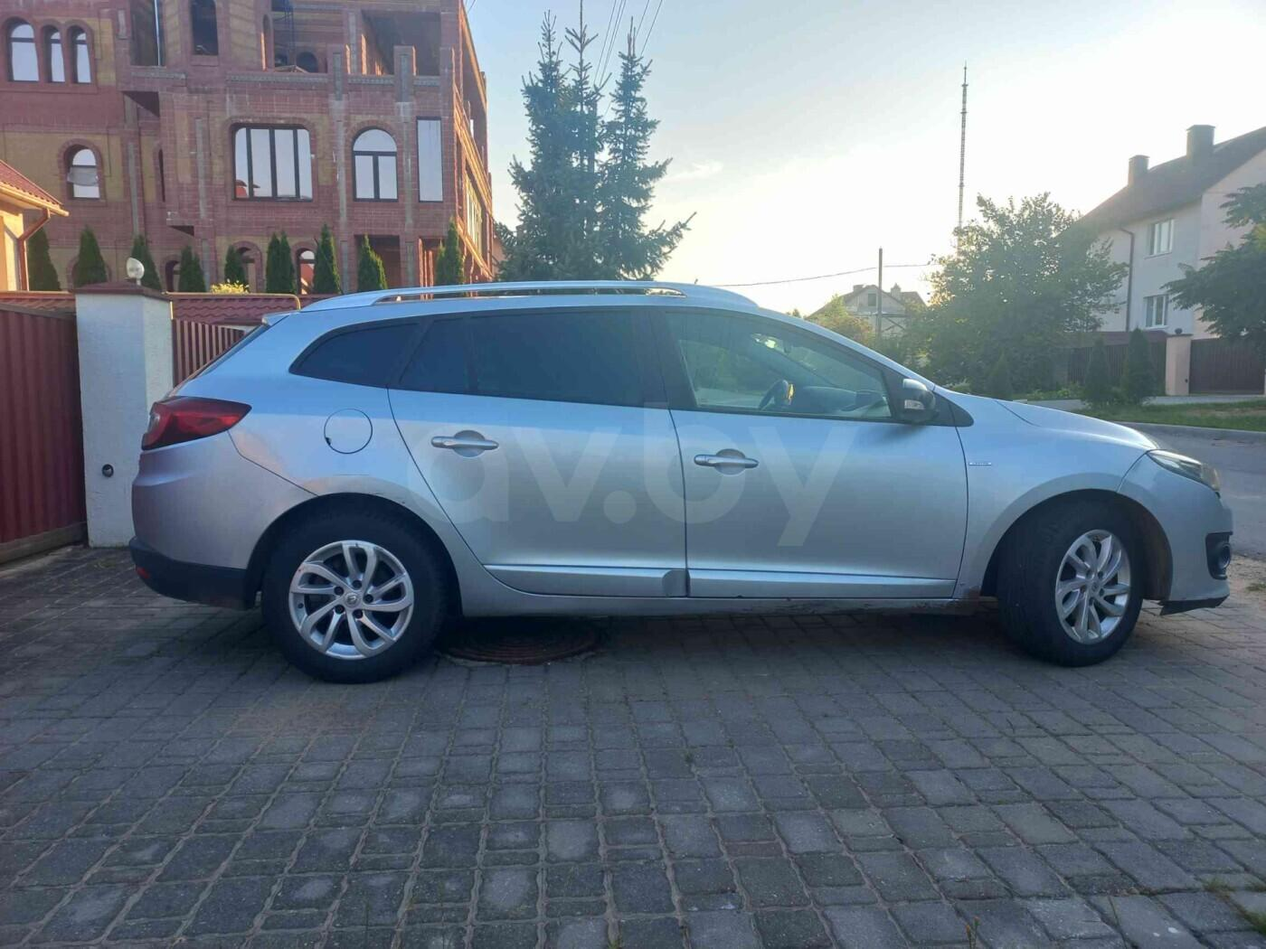Megane_2012-2014: (127, 276, 1238, 669)
